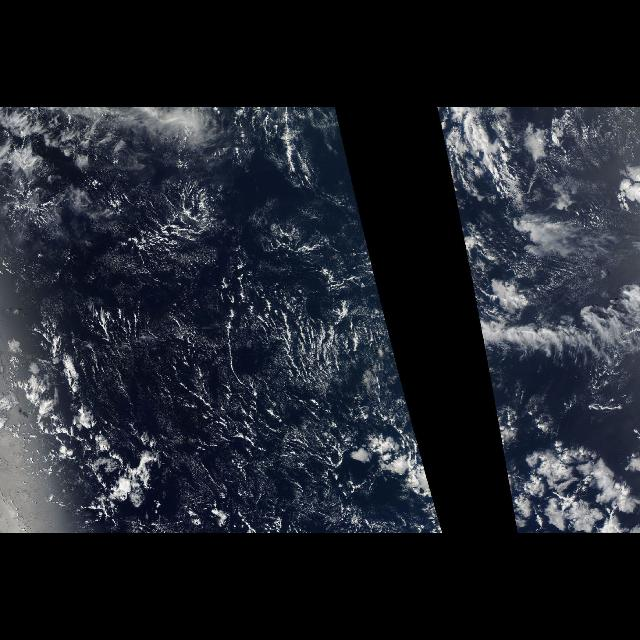Sugar: (99, 196, 385, 510)
